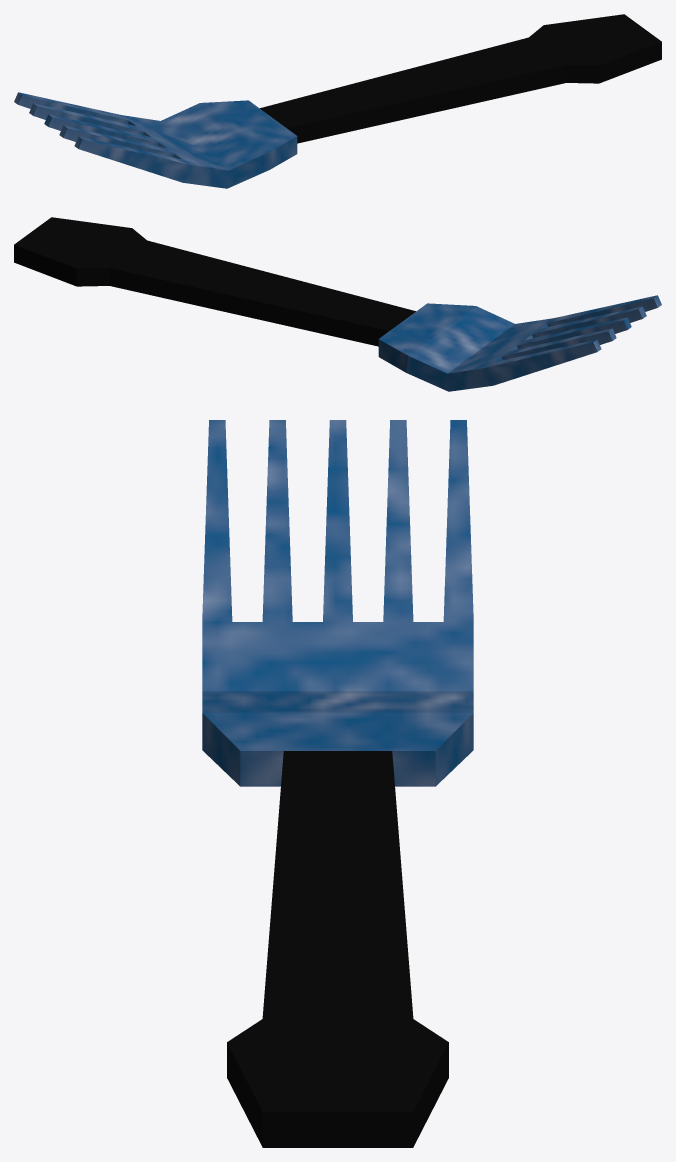
File: Fork.fbx
3 views of the same model, one above another, from view 1: azimuth 30°, elevation 25°; view 2: azimuth 150°, elevation 25°; view 3: azimuth 270°, elevation 25° (orthographic). The views are drawn at different scales.
Visible parts, largest first — view 1: Fork; view 2: Fork; view 3: Fork.
Part boxes in pixels (<box>): Fork: <box>14,14,661,188</box>; Fork: <box>14,217,661,391</box>; Fork: <box>202,420,473,1147</box>.
Bounding box in the file's own units: 220 × 29.31 × 43.44.
